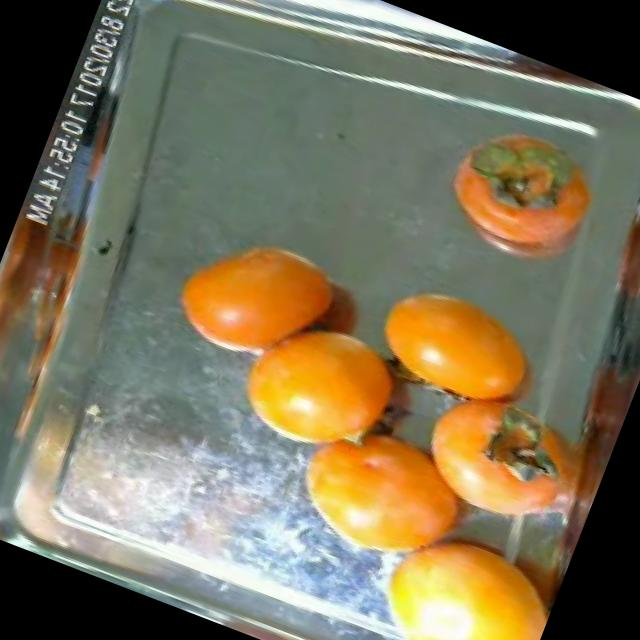Fruit: (262, 389, 488, 592), (212, 288, 429, 481), (414, 104, 622, 296), (352, 256, 570, 428), (151, 202, 347, 388), (341, 498, 569, 640)
